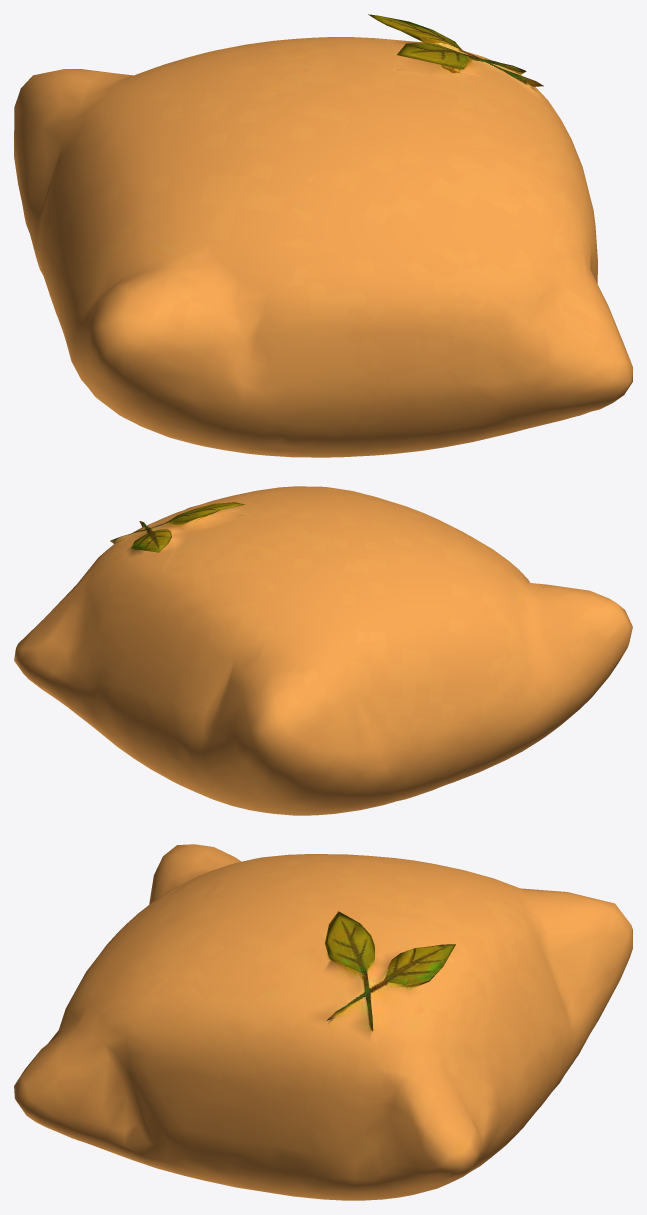
File: kissen_wald_a.glb
3 views of the same model, one above another, from view 1: azimuth 30°, elevation 25°; view 2: azimuth 150°, elevation 25°; view 3: azimuth 270°, elevation 25° (orthographic). The views are drawn at different scales.
Parts seen in each view (by area): view 1: tripo_node_0e6328c4-4989-4d29-807b-155fcee16710; view 2: tripo_node_0e6328c4-4989-4d29-807b-155fcee16710; view 3: tripo_node_0e6328c4-4989-4d29-807b-155fcee16710.
Part boxes in pixels (left/top/right/bottom): tripo_node_0e6328c4-4989-4d29-807b-155fcee16710: left=14, top=14, right=632, bottom=457; tripo_node_0e6328c4-4989-4d29-807b-155fcee16710: left=14, top=486, right=632, bottom=815; tripo_node_0e6328c4-4989-4d29-807b-155fcee16710: left=14, top=844, right=632, bottom=1200.
Size of the model in its own units: 1.19 by 0.6015 by 1.22.
Materials: 1 (1 with a texture image).
